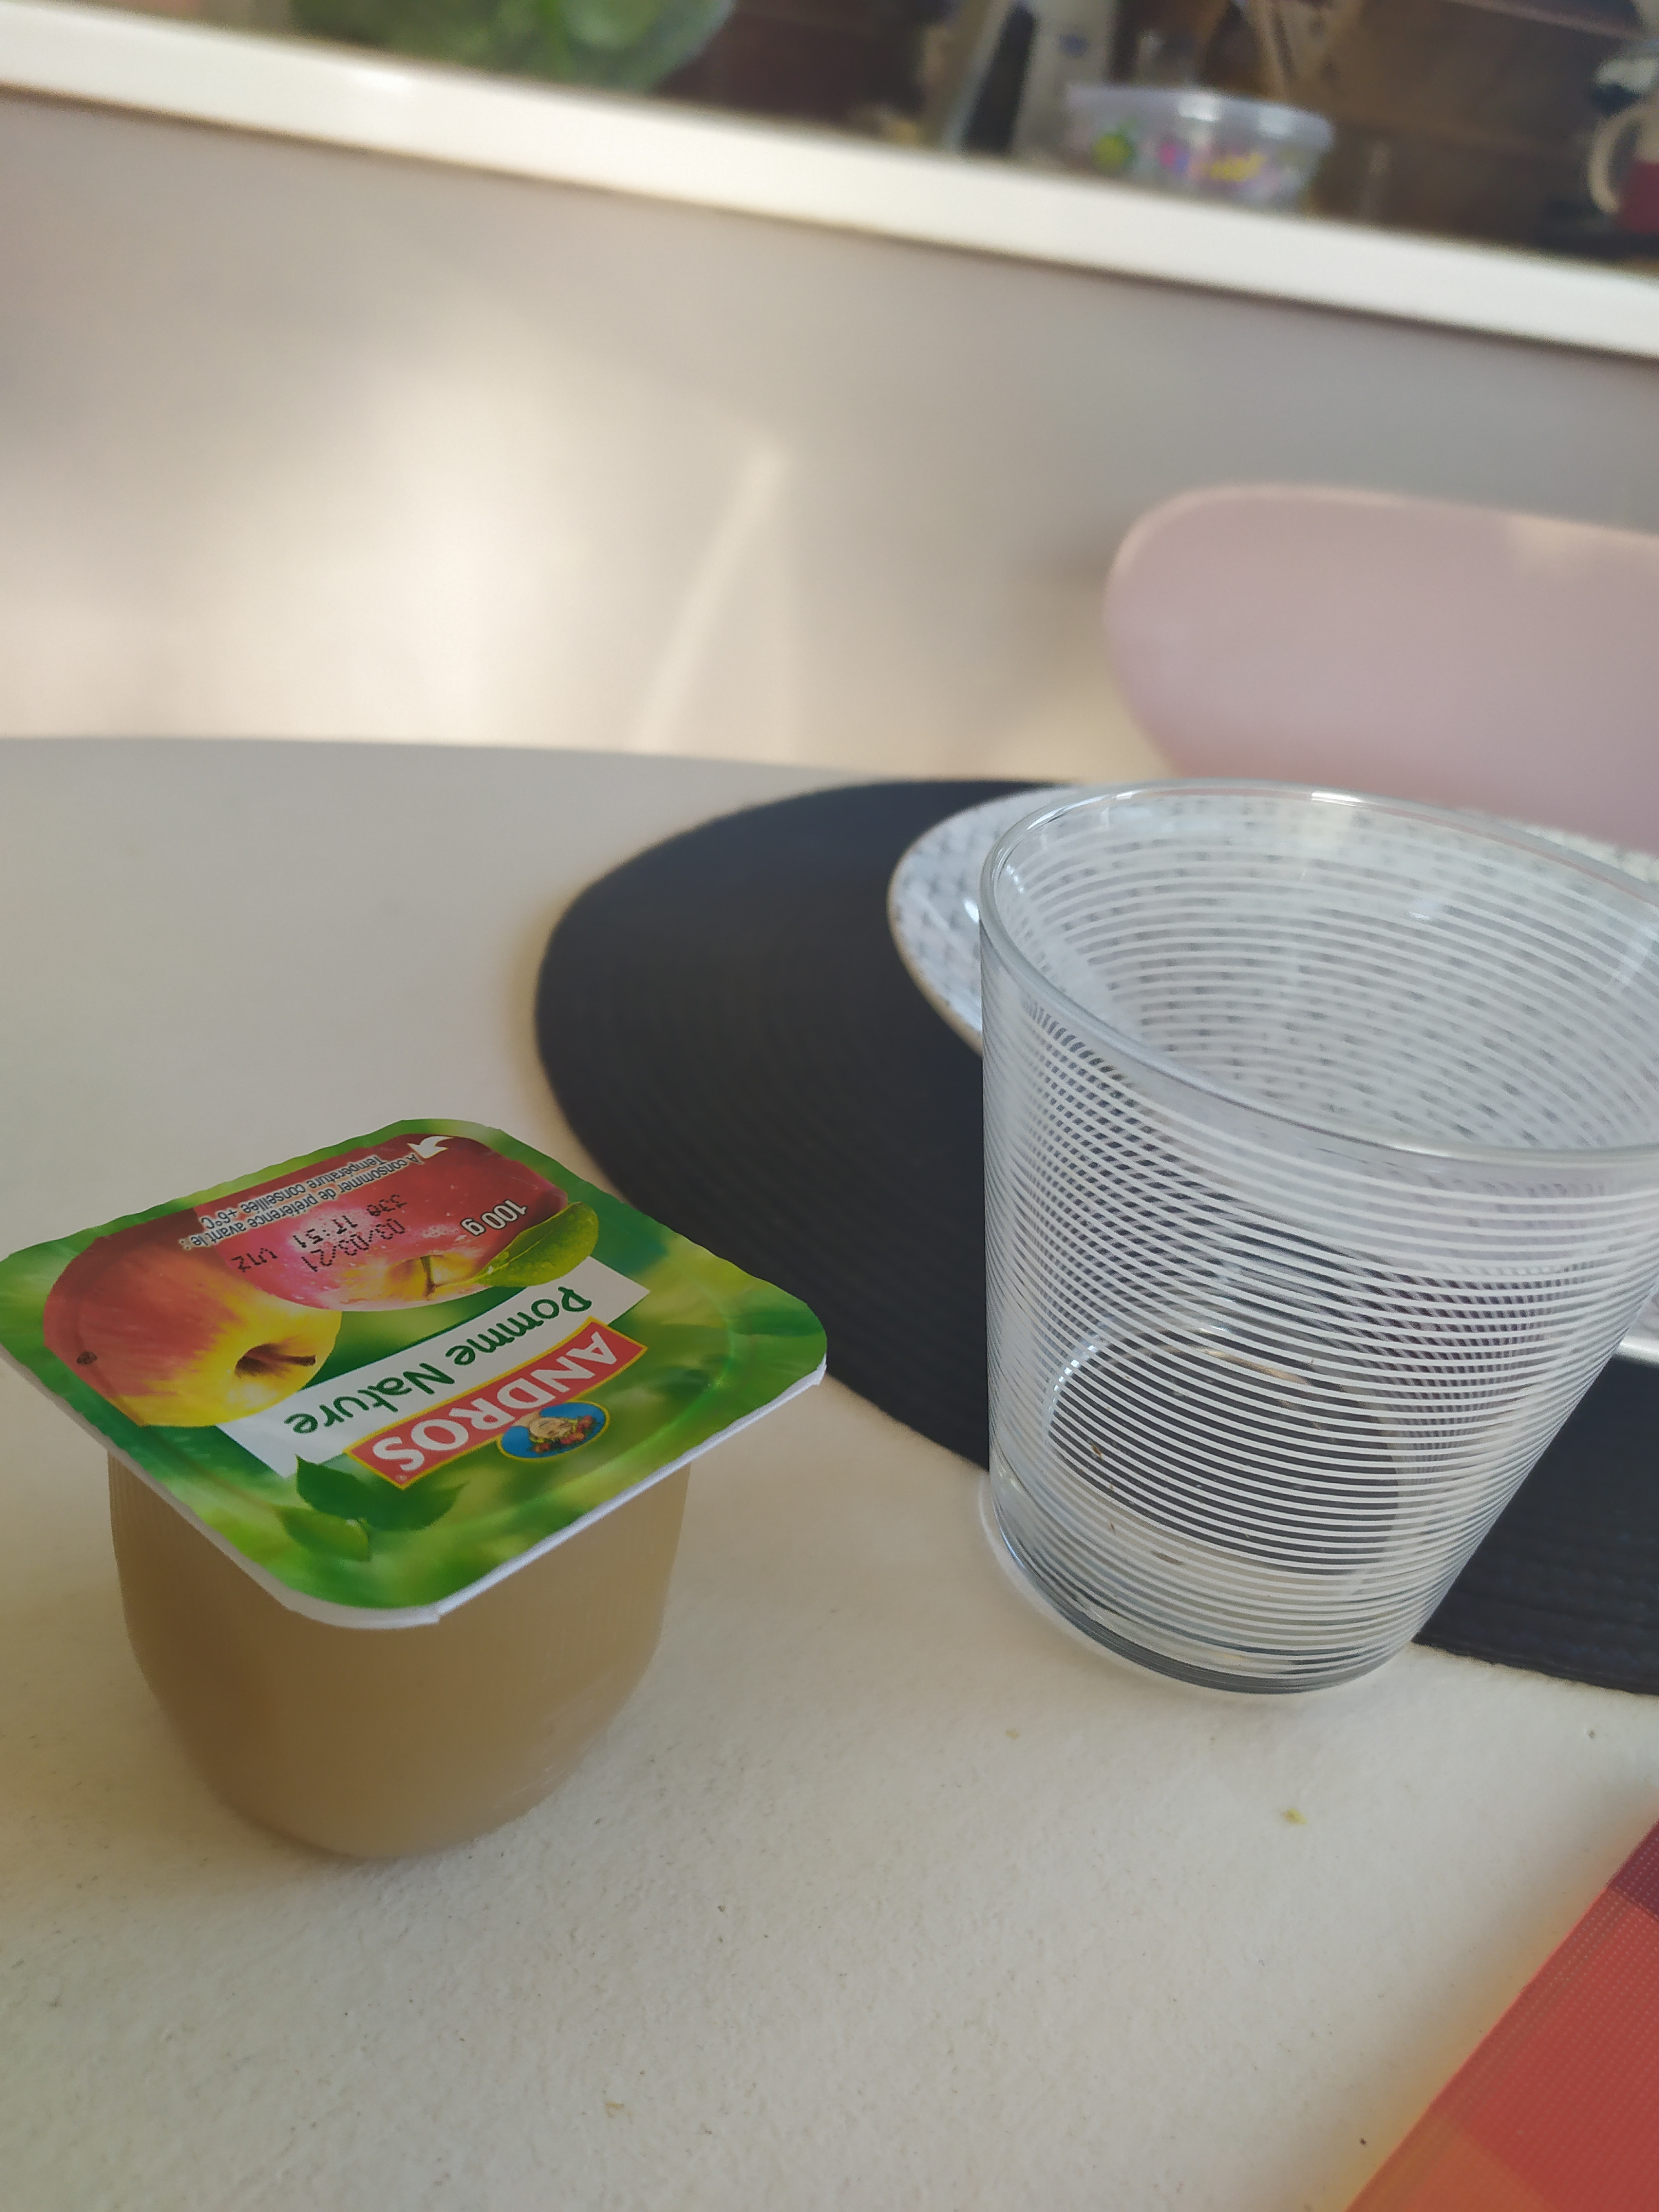compote: (0, 1101, 824, 1876)
